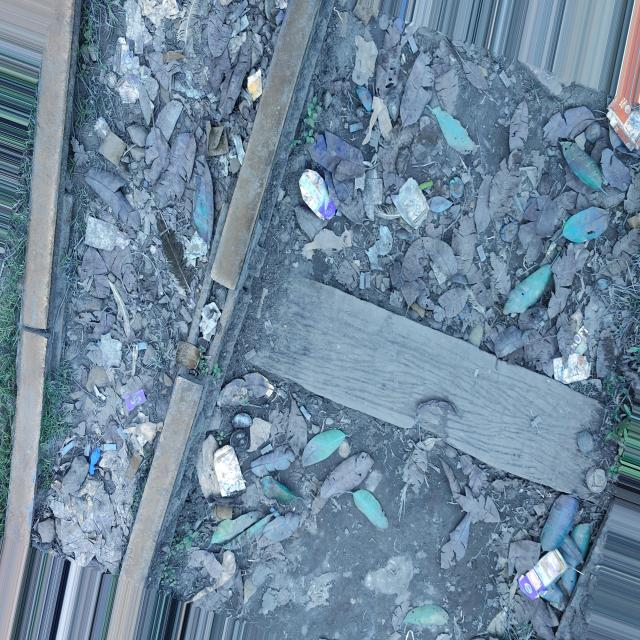crack: (14, 295, 60, 360)
